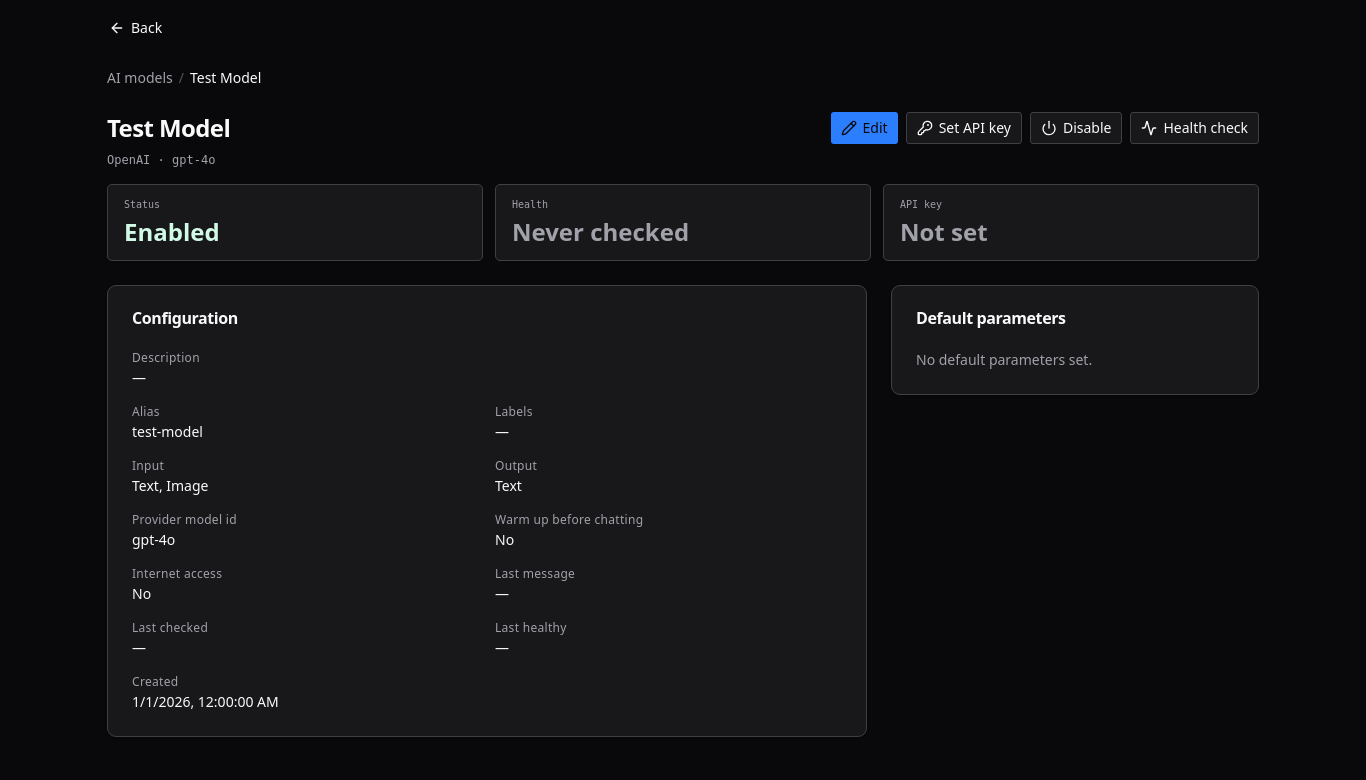
Scenario: AiModelDetailPage — health check › clicking Health check POSTs and flips the status to Checking…
The image size is (1366, 780).
Check: the heading "Test Model" is shown, box [107,112,230,144]
Click the button "Health check".
click(1195, 128)  # box [1130,112,1259,144]
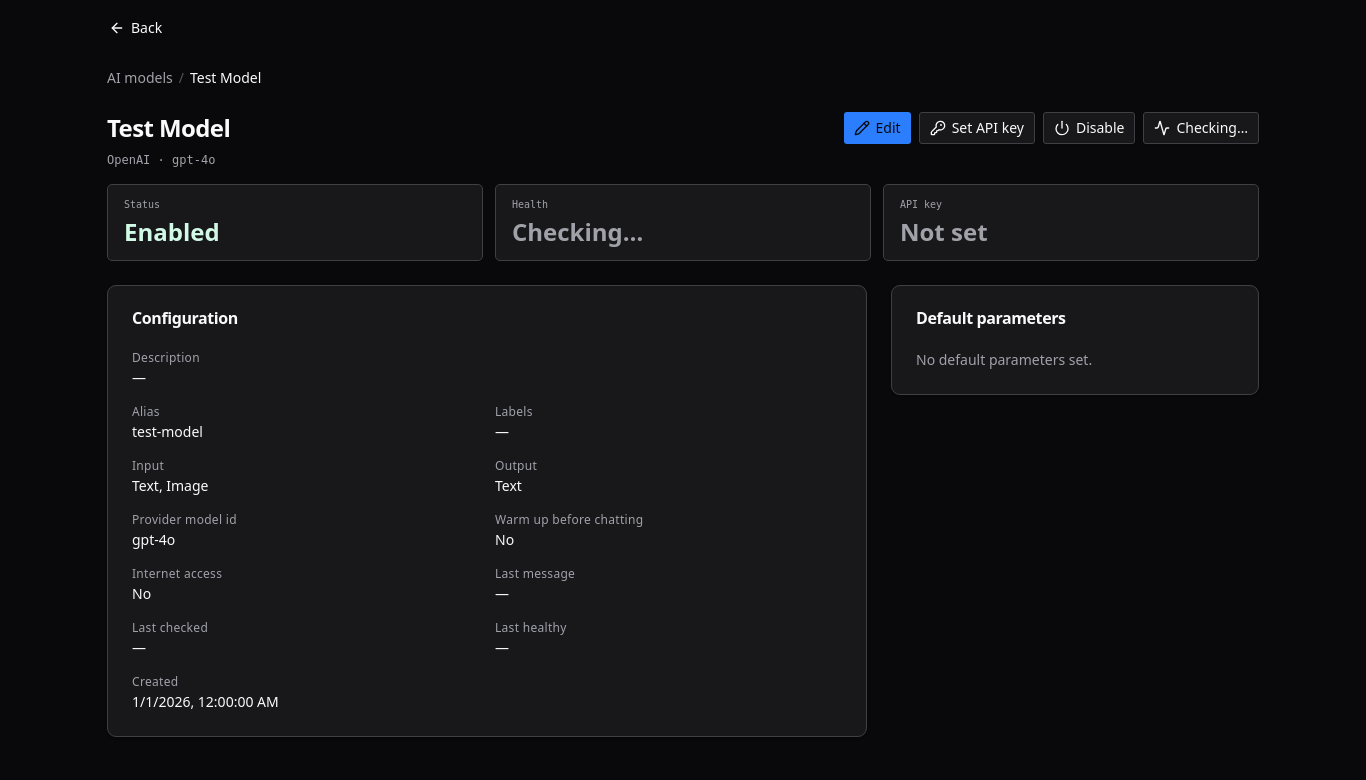
Check: the button "Checking…" is shown, box [1144,112,1259,144]
